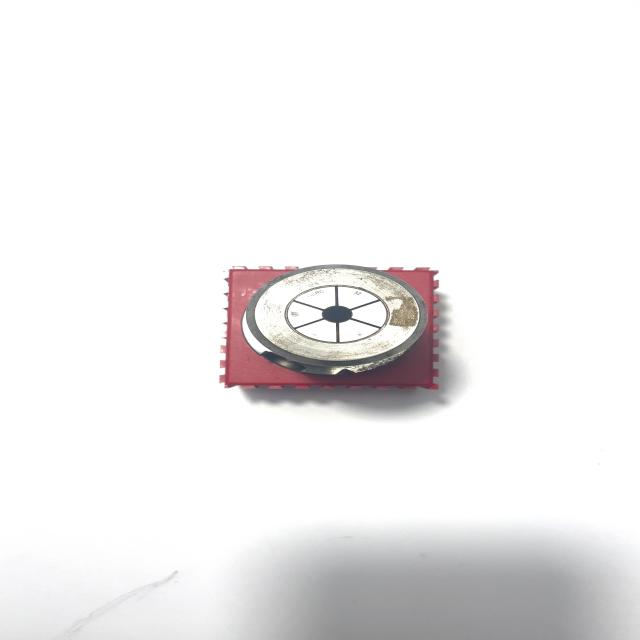Filled_Slot: (240, 265, 427, 375)
